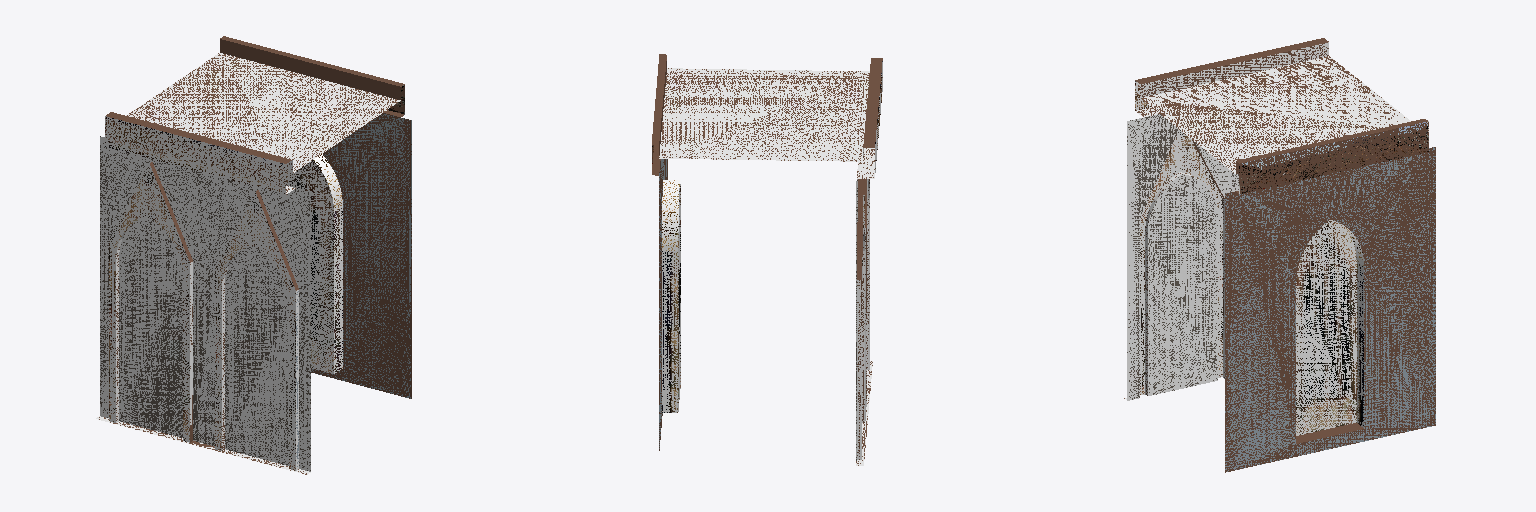
3 renders of one model, left to right at view 1: azimuth 30°, elevation 25°; view 2: azimuth 150°, elevation 25°; view 3: azimuth 270°, elevation 25°, orthographic.
Parts seen in each view (by area): view 1: Mesh1 Beffroi Model; view 2: Mesh1 Beffroi Model; view 3: Mesh1 Beffroi Model.
Boxes of the visible parts, x1=… form: Mesh1 Beffroi Model: x1=96, y1=36, x2=411, y2=474; Mesh1 Beffroi Model: x1=652, y1=54, x2=882, y2=465; Mesh1 Beffroi Model: x1=1124, y1=38, x2=1435, y2=472.
Size of the model in its own units: 18.58 by 21.38 by 19.48.
Materials: 11 (5 with a texture image).